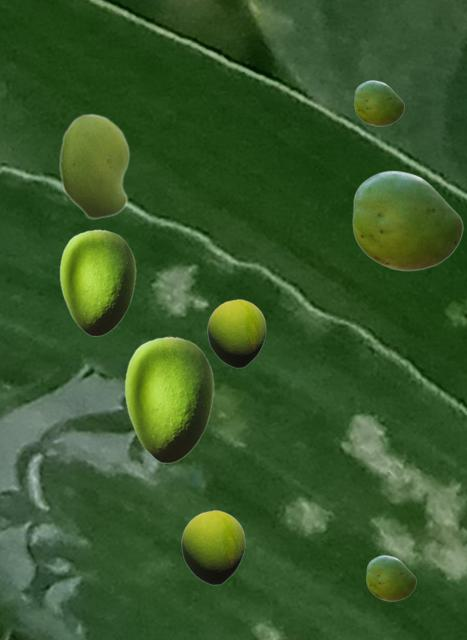green_mango: (124, 336, 213, 462), (352, 170, 462, 270), (59, 229, 135, 335), (59, 113, 129, 219), (181, 510, 244, 584), (207, 299, 265, 367), (366, 555, 415, 600), (354, 80, 403, 125)
